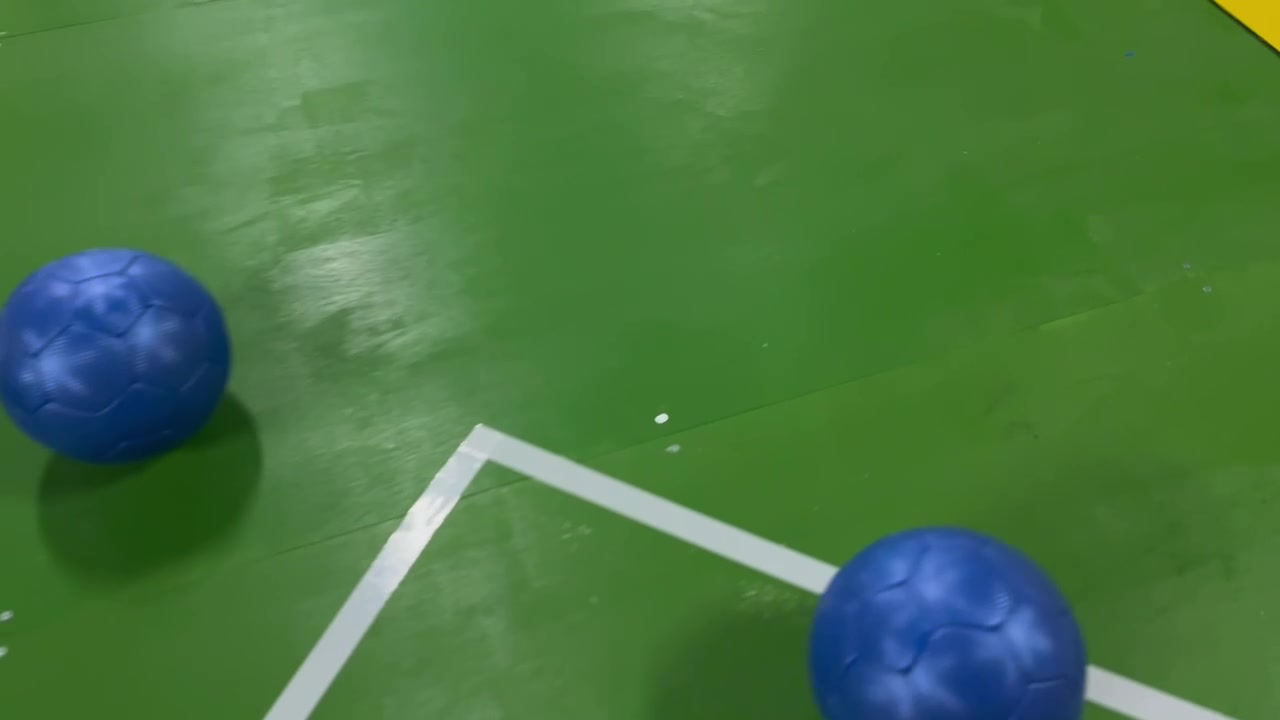blue: (799, 510, 1106, 720), (5, 238, 231, 476)
